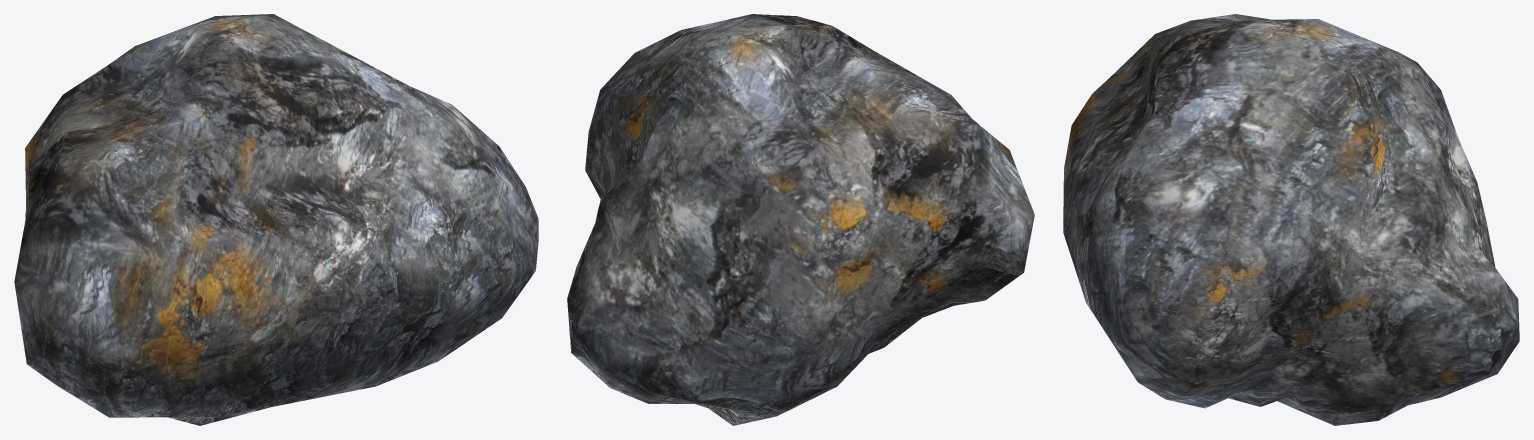
Rendered from stone-transformed.glb.
The picture shows the model from 3 angles, left to right: view 1: azimuth 30°, elevation 25°; view 2: azimuth 150°, elevation 25°; view 3: azimuth 270°, elevation 25°; orthographic projection. The views are drawn at different scales.
Visible parts, largest first — view 1: Object_3; view 2: Object_3; view 3: Object_3.
Boxes of the visible parts, box(x1,y1,x2,y2) form: Object_3: box(14, 14, 538, 425); Object_3: box(567, 14, 1034, 425); Object_3: box(1063, 14, 1519, 425).
Size of the model in its own units: 2.81 by 2.25 by 2.38.
1 material, 1 textured.
